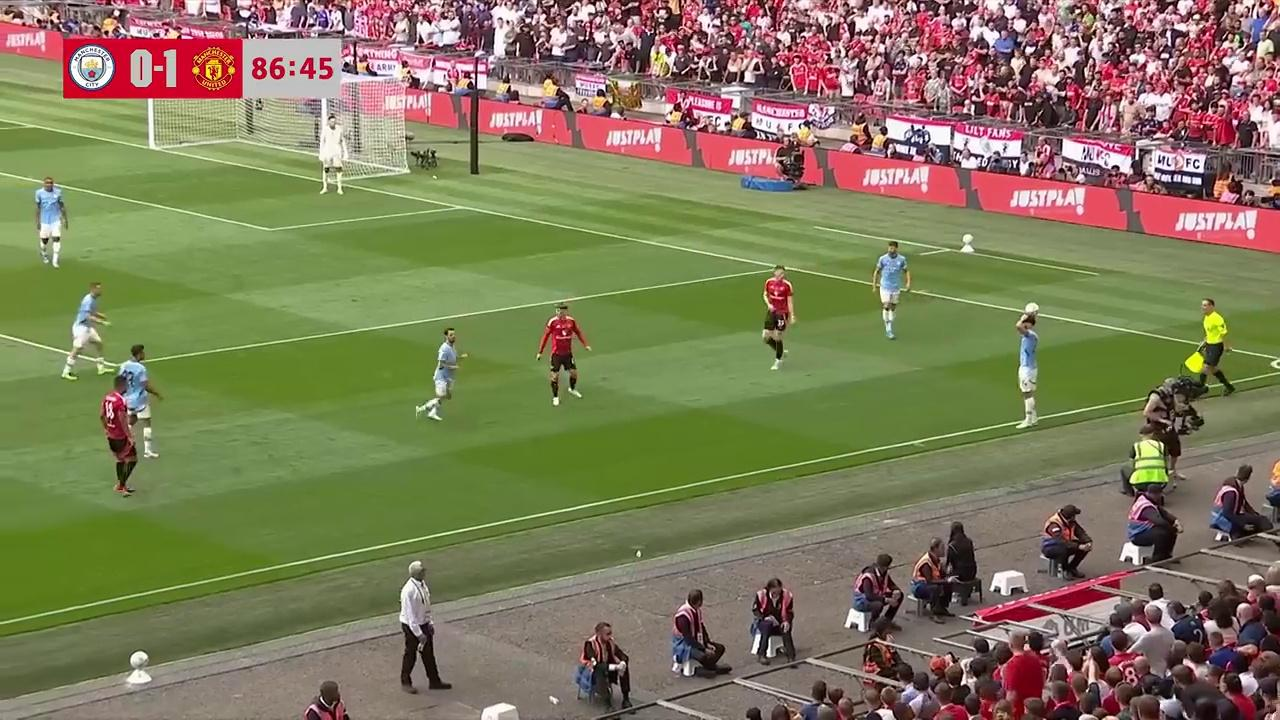ball: (1023, 299, 1041, 316)
player: (113, 345, 162, 450), (538, 300, 586, 405), (415, 326, 468, 421), (61, 282, 111, 379), (99, 378, 138, 495), (874, 238, 908, 339), (34, 175, 67, 267), (1015, 318, 1039, 428), (319, 112, 346, 195), (763, 267, 795, 332), (762, 307, 787, 370)
referee: (1198, 300, 1234, 397)
